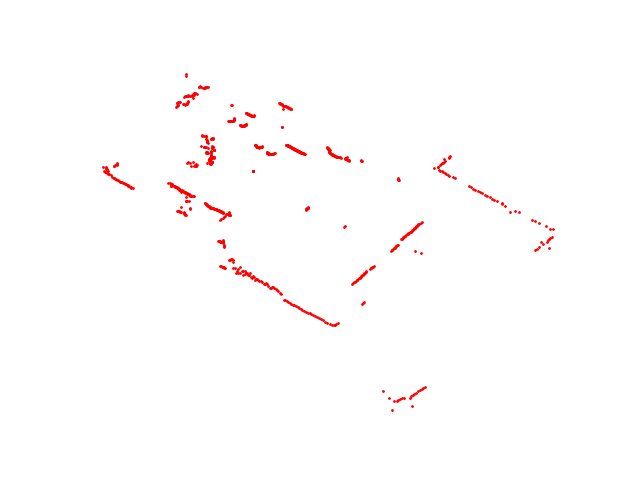person: (251, 141, 279, 158), (225, 116, 250, 129)
